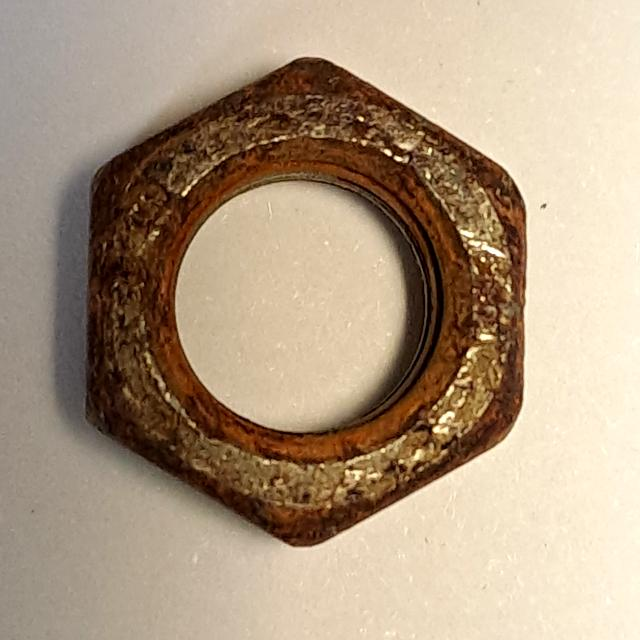Rust: (74, 46, 541, 567)
